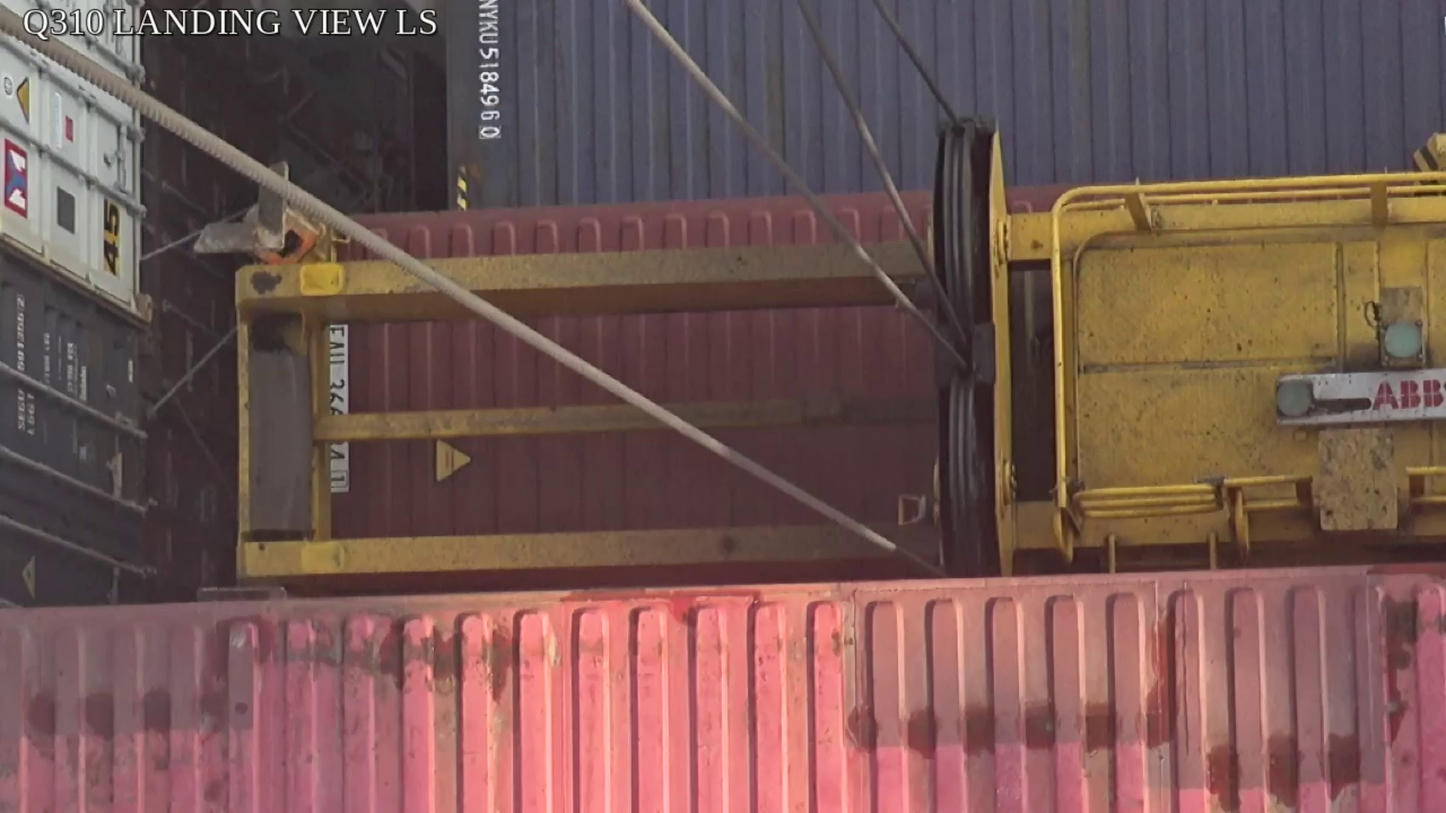aa: (933, 120, 1016, 575)
